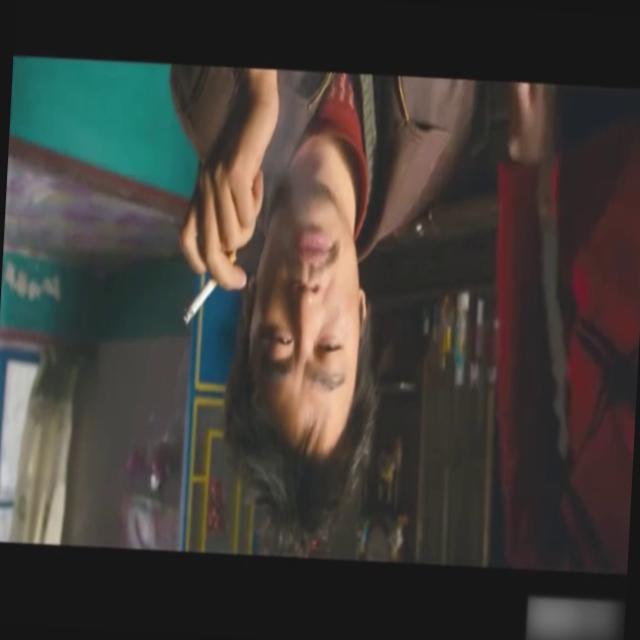smoke: (184, 274, 218, 326)
